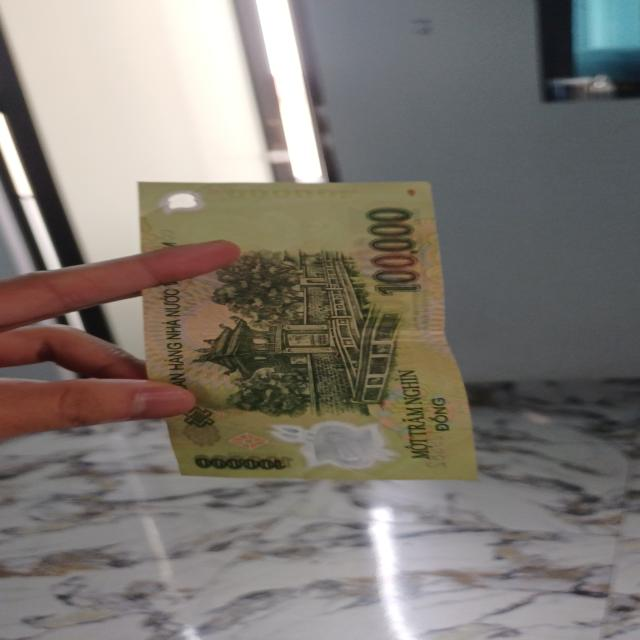100 000 VND: (132, 180, 480, 482)
